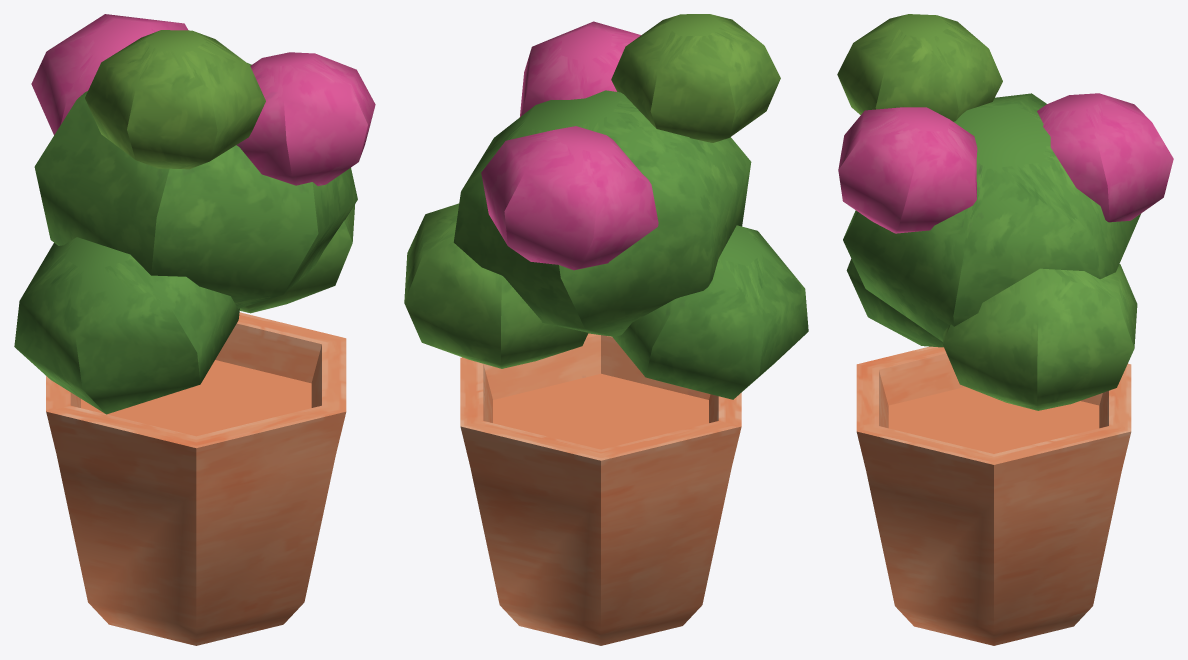
File: potted_plant_low.fbx
The picture shows the model from 3 angles, left to right: view 1: azimuth 30°, elevation 25°; view 2: azimuth 150°, elevation 25°; view 3: azimuth 270°, elevation 25°; orthographic projection. The views are drawn at different scales.
Visible parts, largest first — view 1: potted_plant; view 2: potted_plant; view 3: potted_plant.
Boxes of the visible parts, left/top/right/bottom form: potted_plant: left=14, top=14, right=375, bottom=645; potted_plant: left=404, top=14, right=808, bottom=645; potted_plant: left=837, top=14, right=1173, bottom=645.
Bounding box in the file's own units: 2.06 × 3.32 × 1.82.
1 material, 1 textured.
